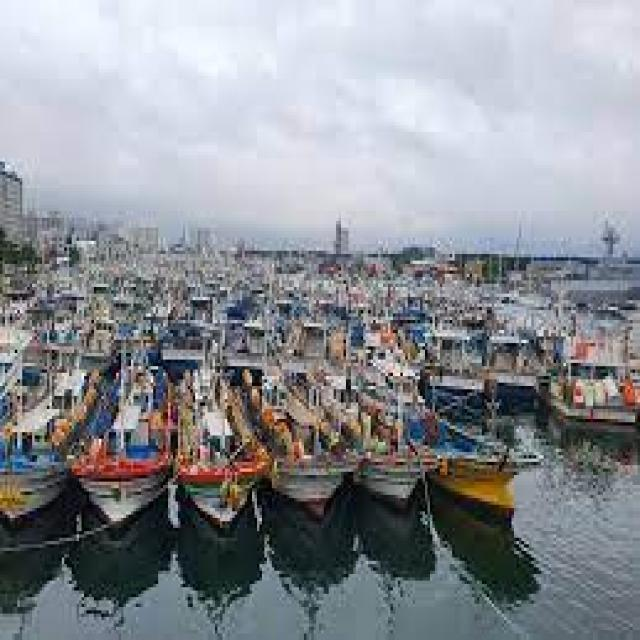Ship: (422, 377, 550, 526), (68, 367, 175, 532), (4, 361, 76, 543), (174, 384, 260, 532), (276, 377, 355, 526), (357, 374, 424, 516)
